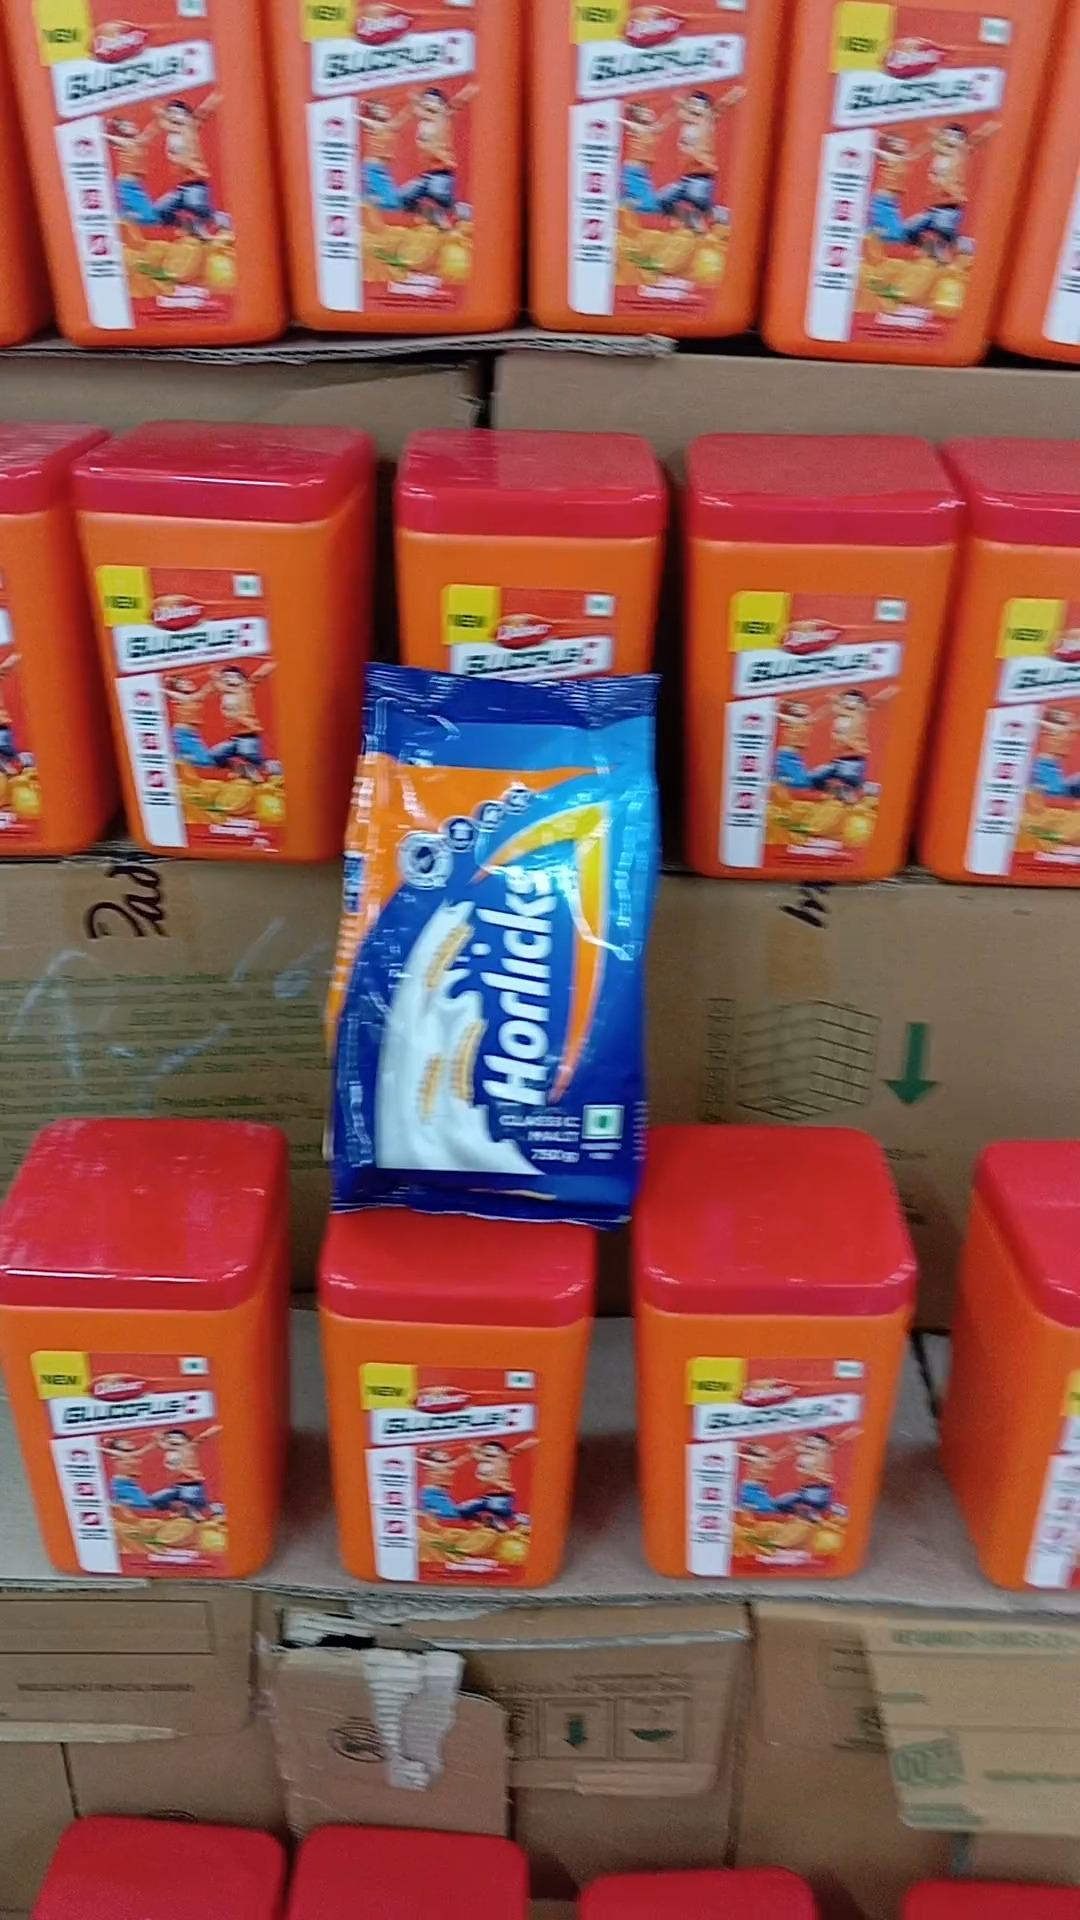HORLICK_CLASSIC_MALT_750_G_POUCH: (357, 669, 644, 1211)
